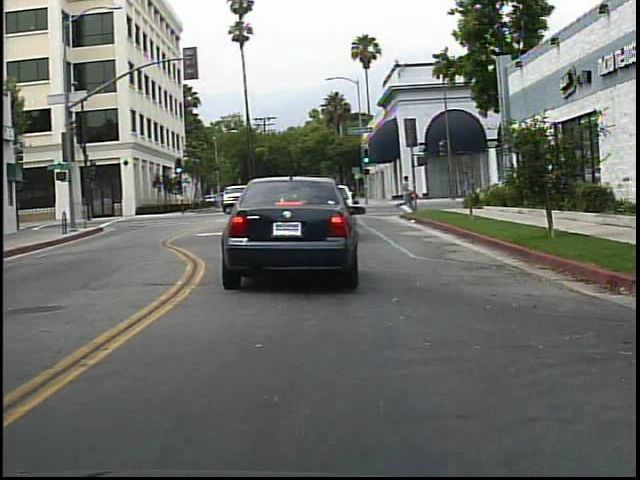person: (393, 174, 416, 218)
